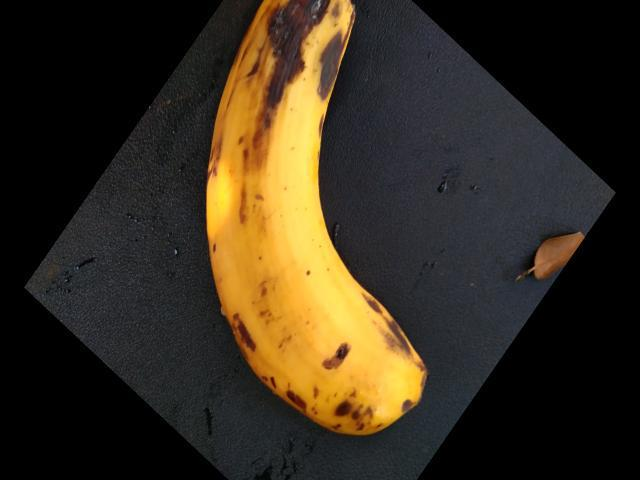overripe: (158, 0, 451, 450)
